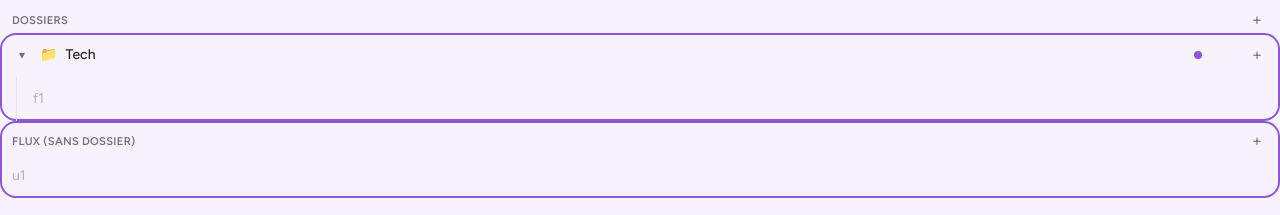
Scenario: FolderTree › replie puis déplie un dossier (les feeds disparaissent/réapparaissent)
Expected: the link "f1" is shown, x1=33 y1=90 x2=44 y2=107
Click the button named "Replier le dossier". click: (22, 55)
box: x1=12 y1=45 x2=32 y2=65
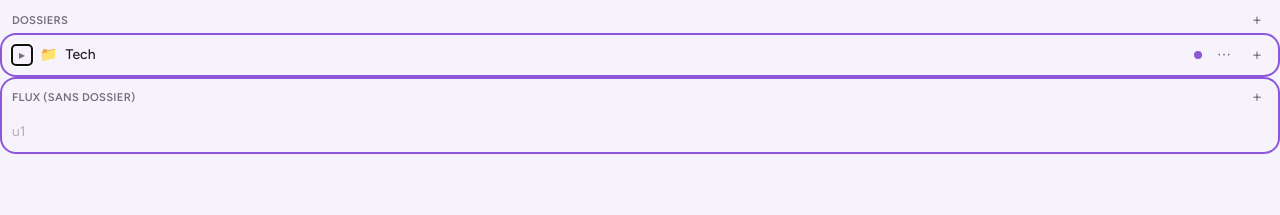
Now the link "f1" is gone
Click the button named "Déplier le dossier". click: (22, 55)
box: x1=12 y1=45 x2=32 y2=65
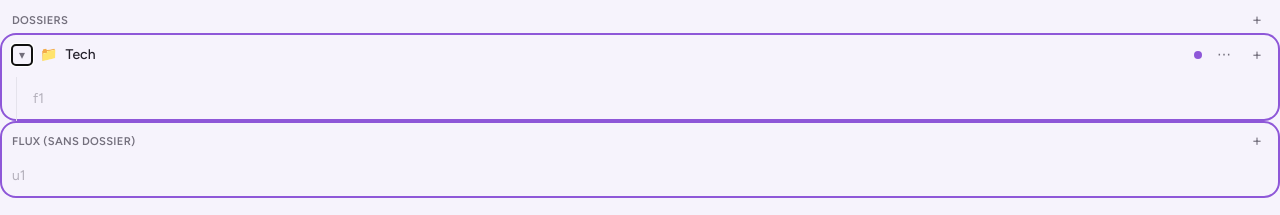
Now the link "f1" is shown, box x1=33 y1=90 x2=44 y2=107
